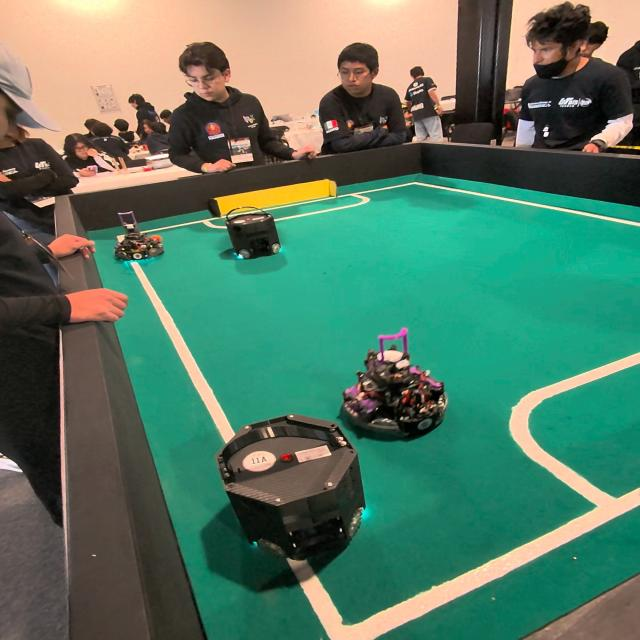Robot: (200, 401, 384, 574), (340, 348, 449, 448), (224, 198, 292, 274), (114, 206, 170, 263)
pelota: (152, 230, 173, 250)
